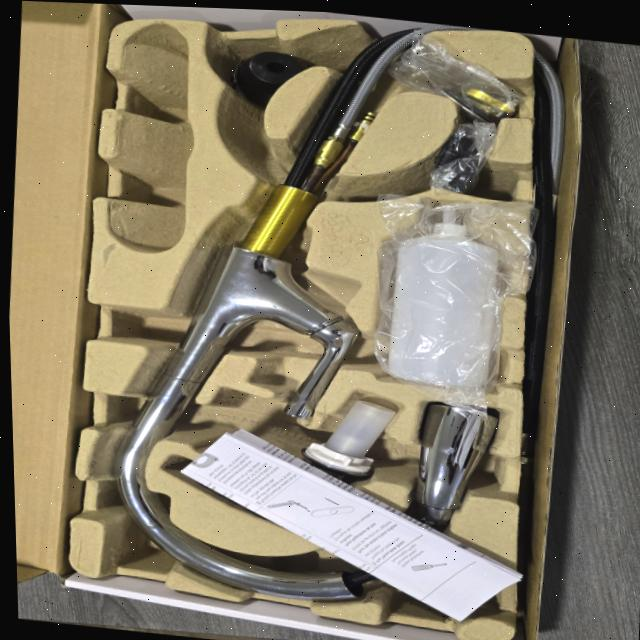1o: (115, 34, 493, 600)
2o: (186, 399, 394, 523)
3: (384, 206, 497, 386)
4m: (110, 25, 193, 252)
5: (223, 50, 302, 107)
6: (390, 35, 518, 119)
7: (428, 122, 497, 192)
8: (174, 428, 527, 621)
